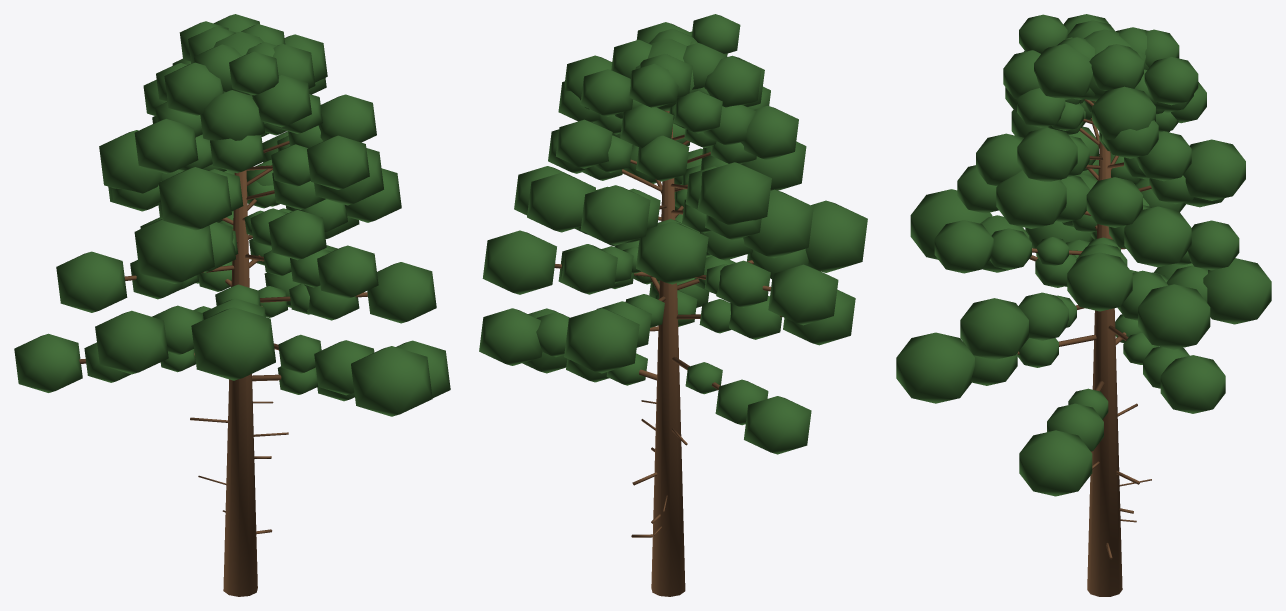
File: pine_ponderosa_stylized.glb
3 renders of one model, left to right at view 1: azimuth 30°, elevation 25°; view 2: azimuth 150°, elevation 25°; view 3: azimuth 270°, elevation 25°, orthographic.
Visible parts, largest first — view 1: pine_ponderosa_stylized; view 2: pine_ponderosa_stylized; view 3: pine_ponderosa_stylized.
Boxes of the visible parts, <box> form: pine_ponderosa_stylized: <box>14,14,450,596</box>; pine_ponderosa_stylized: <box>479,14,867,596</box>; pine_ponderosa_stylized: <box>896,14,1271,596</box>.
Size of the model in its own units: 9.98 by 14.87 by 8.91.
